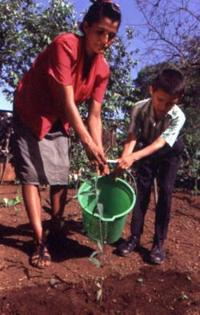person: (12, 2, 118, 268)
